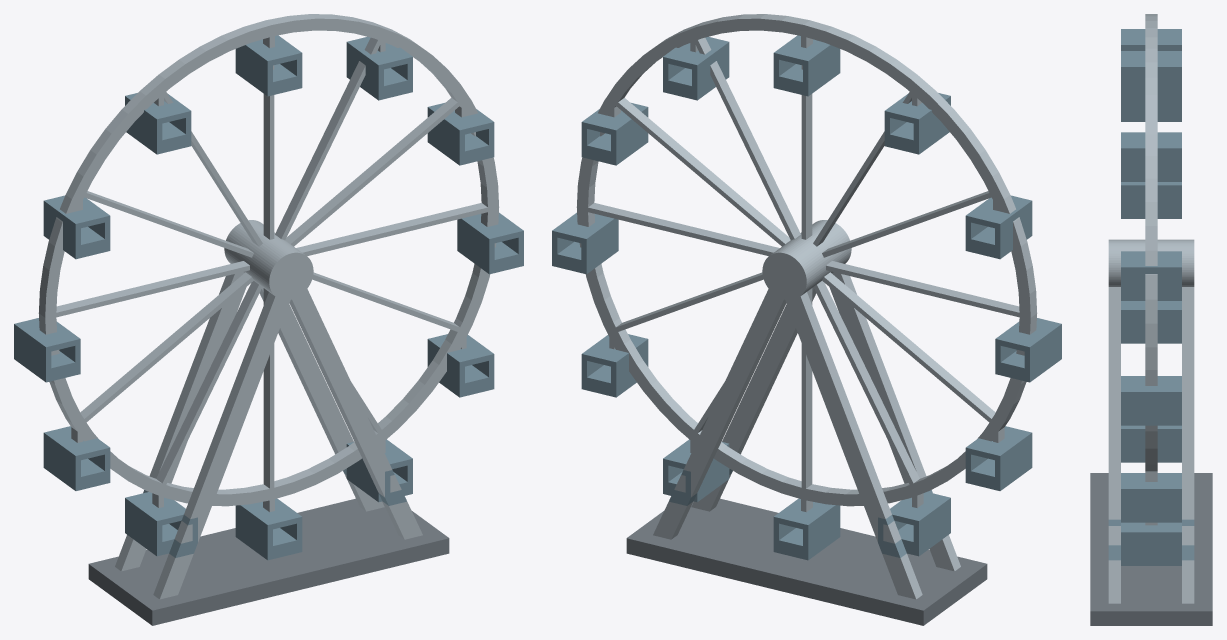
The model's file is NEW_RECOVERY_012_LOD1.fbx.
3 views of the same model, side by side, from view 1: azimuth 30°, elevation 25°; view 2: azimuth 150°, elevation 25°; view 3: azimuth 270°, elevation 25° (orthographic). The views are drawn at different scales.
Visible parts, largest first — view 1: FerrisWheel; view 2: FerrisWheel; view 3: FerrisWheel.
Part boxes in pixels (<box>): FerrisWheel: <box>14,14,523,625</box>; FerrisWheel: <box>552,14,1061,625</box>; FerrisWheel: <box>1090,14,1212,625</box>.
Size of the model in its own units: 1078 by 250 by 1172.
